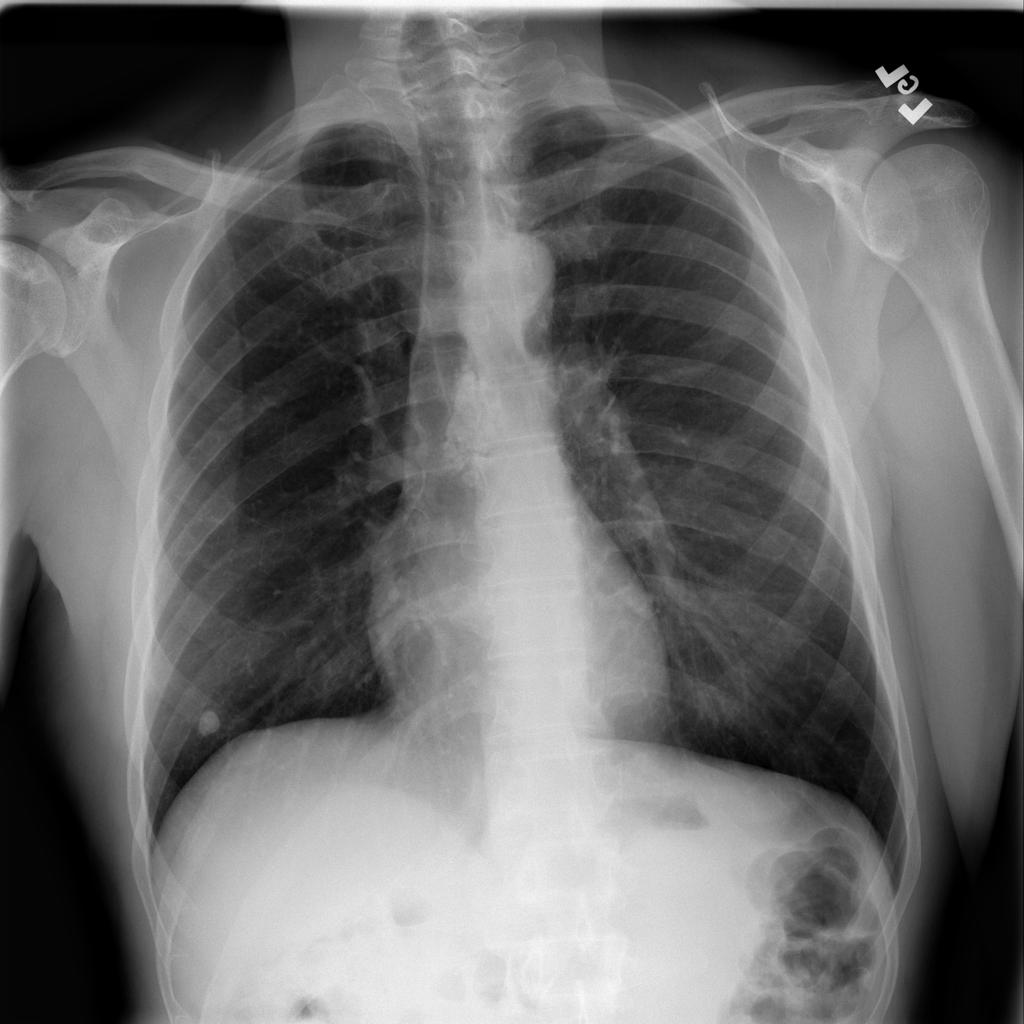nodule: (186, 695, 235, 747)
